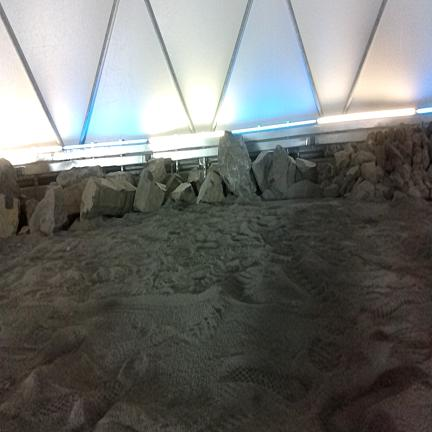Rock: (218, 131, 256, 196), (81, 179, 136, 221), (29, 186, 67, 235), (268, 145, 296, 198), (134, 169, 165, 212), (0, 158, 20, 209), (57, 166, 104, 187), (64, 179, 88, 216), (0, 194, 20, 238), (252, 152, 273, 192), (197, 172, 224, 203), (284, 180, 321, 199), (163, 173, 183, 204), (296, 158, 318, 182), (145, 158, 166, 183), (172, 183, 196, 203), (350, 181, 375, 200), (105, 171, 136, 186), (21, 199, 38, 225), (188, 169, 204, 196), (350, 150, 375, 167), (361, 162, 377, 186), (335, 150, 350, 172), (385, 144, 404, 160), (318, 163, 334, 180), (340, 178, 355, 196), (356, 151, 375, 165), (374, 145, 385, 168), (322, 184, 340, 198), (392, 191, 408, 206), (376, 184, 391, 199), (346, 166, 360, 182), (399, 141, 412, 158), (390, 172, 403, 189), (395, 125, 407, 143), (421, 147, 430, 170), (339, 177, 349, 196), (401, 164, 411, 181), (261, 190, 277, 200), (344, 144, 355, 158), (407, 188, 421, 198), (411, 133, 421, 147), (377, 165, 385, 182), (320, 180, 332, 191), (208, 163, 219, 175), (333, 175, 344, 186), (353, 177, 363, 188), (19, 226, 30, 235), (388, 127, 395, 141), (427, 166, 431, 182), (425, 180, 431, 190)
